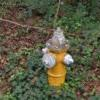Hydrant: (36, 19, 76, 94)
